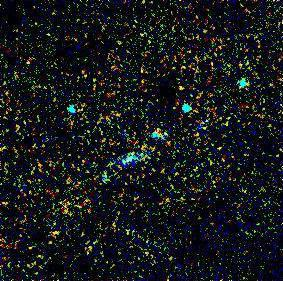star: (166, 74, 196, 104)
